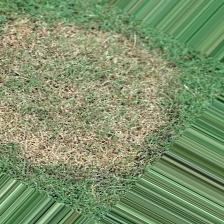patch: (8, 37, 127, 161)
